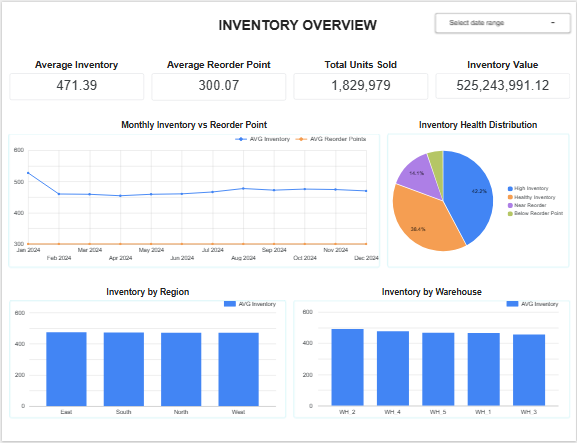

Layout of this report page (visuals, bound fields, positions):
{"tool":"powerbi","page":{"name":"Inventory Overview","canvas":[1280,720],"ordinal":0},"visuals":[{"type":"textbox","box":[0,0,1280,83],"z":0},{"type":"card","title":"Latest AVG Inventory","fields":{"Values":["retail_sales vw_inventory_summary.Latest AVG Inventory"]},"box":[8.9,72.7,192.9,107.1],"z":1000},{"type":"card","title":"Latest Inventory Value","fields":{"Values":["retail_sales vw_inventory_summary.Latest Inventory Value"]},"box":[334.6,72.7,232.9,107.1],"z":2000},{"type":"card","title":"Total Units Sold","fields":{"Values":["Sum(retail_sales vw_inventory_summary.Total Units Sold)"]},"box":[693.8,72.4,234.9,106.9],"z":3000},{"type":"card","title":"Latest AVG Reorder Point","fields":{"Values":["retail_sales vw_inventory_summary.Latest AVG Reorder Points"]},"box":[1027.1,72.4,243.3,106.9],"z":4000},{"type":"lineChart","title":"Monthly Inventory vs Reorder Point","fields":{"Y":["Avg(retail_sales vw_inventory_summary.AVG Inventory)","Avg(retail_sales vw_inventory_summary.AVG Reorder Points)"],"Category":["retail_sales vw_inventory_summary.Month.Variasi.Hierarki Tanggal.Bulan"]},"box":[118.6,177.1,1041.4,304.3],"z":5000},{"type":"donutChart","title":"Inventory Health Distribution","fields":{"Category":["retail_sales vw_inventory_status.Inventory Status"],"Y":["Sum(retail_sales vw_inventory_status.Jumlah)"]},"box":[0,483.9,451.5,236.3],"z":6000},{"type":"clusteredBarChart","title":"Average Inventory by Warehouse","fields":{"Category":["retail_sales vw_warehouse_summary.Warehouse ID"],"Y":["Avg(retail_sales vw_warehouse_summary.AVG Inventory)"]},"box":[451.5,483.9,423.4,236.3],"z":7000},{"type":"clusteredBarChart","title":"Average Inventory by Region","fields":{"Category":["retail_sales vw_region_summary.Region"],"Y":["Avg(retail_sales vw_region_summary.AVG Inventory)"]},"box":[874.9,483.9,405.1,236.3],"z":8000}]}

Visuals, with their boxes on the page's 1280x720 design canvas (x1, y1, x2, y2). These are canvas units, not pixel positions in the 577x443 screenshot, which may show the page scaled, cropped or inside an application window:
textbox: [left=0, top=0, right=1280, bottom=83]
"Latest AVG Inventory" card: [left=9, top=73, right=202, bottom=180]
"Latest Inventory Value" card: [left=335, top=73, right=568, bottom=180]
"Total Units Sold" card: [left=694, top=72, right=929, bottom=179]
"Latest AVG Reorder Point" card: [left=1027, top=72, right=1270, bottom=179]
"Monthly Inventory vs Reorder Point" lineChart: [left=119, top=177, right=1160, bottom=481]
"Inventory Health Distribution" donutChart: [left=0, top=484, right=452, bottom=720]
"Average Inventory by Warehouse" clusteredBarChart: [left=452, top=484, right=875, bottom=720]
"Average Inventory by Region" clusteredBarChart: [left=875, top=484, right=1280, bottom=720]
